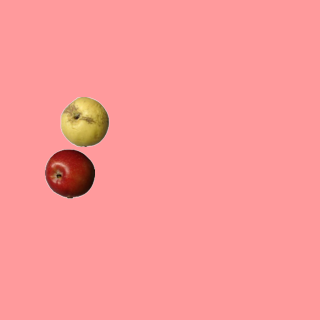Apple Braeburn: (44, 148, 94, 198)
Apple Golden 1: (59, 96, 109, 146)
